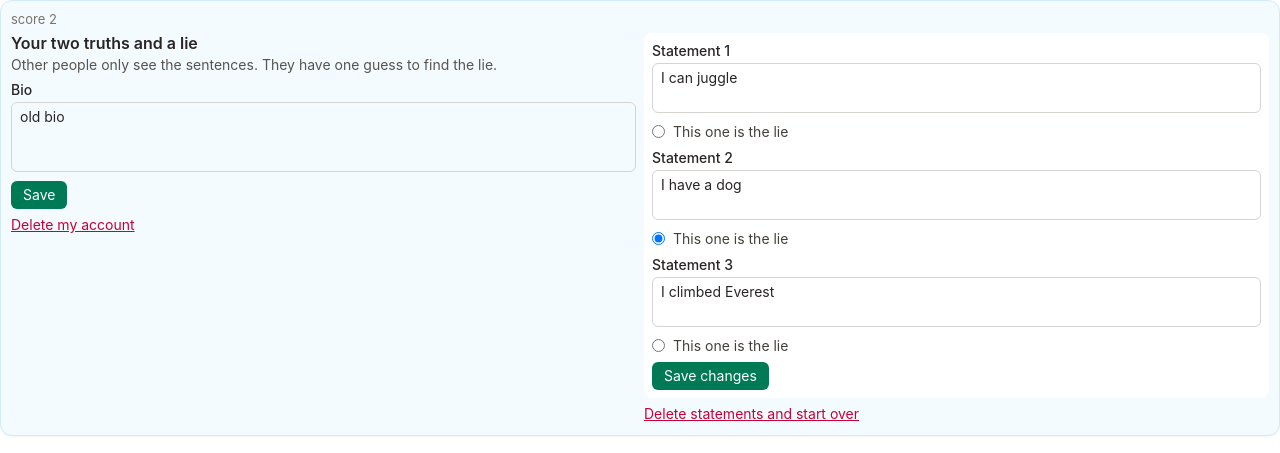
Test: the profile face fits the bio, statements, and delete control
Expected: the text box labelled "Bio" holds "old bio", [11,102,636,172]
Expected: the text "old bio" is not shown
What coordinates should you click on to do the following:
click the button "Delete my account"
I would click on:
 (73, 225)
Its box is [11,215,135,235].
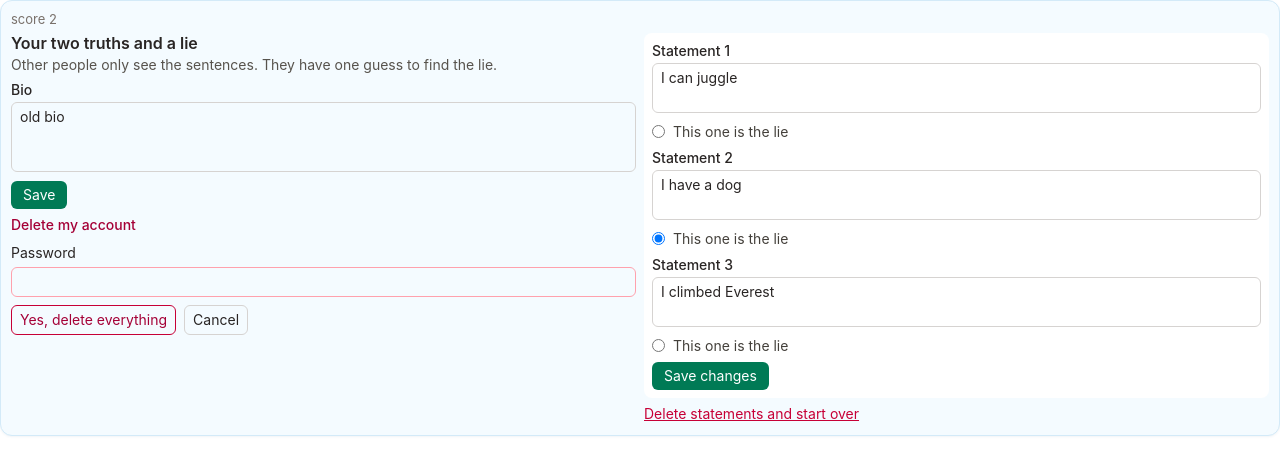
Expected: the button "Yes, delete everything" is shown, [11,305,176,335]
